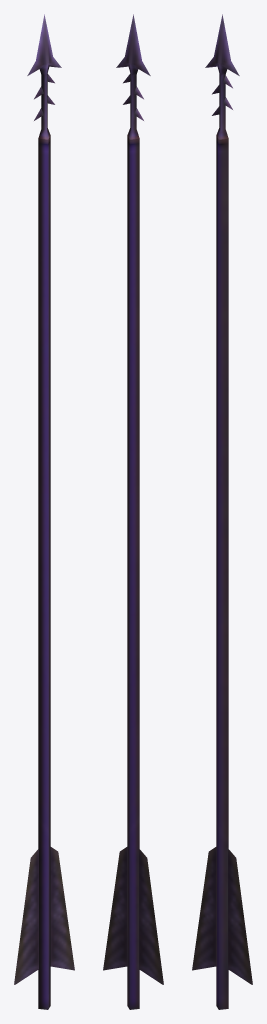
The model's file is Arrow02.FBX.
The picture shows the model from 3 angles, left to right: view 1: azimuth 30°, elevation 25°; view 2: azimuth 150°, elevation 25°; view 3: azimuth 330°, elevation 25°; orthographic projection.
Visible parts, largest first — view 1: Arrow02; view 2: Arrow02; view 3: Arrow02.
Part boxes in pixels (x1,y1,x2,y2): Arrow02: (14, 14, 74, 1009); Arrow02: (103, 14, 163, 1009); Arrow02: (192, 14, 252, 1009).
Size of the model in its own units: 4.82 by 75.68 by 1.
